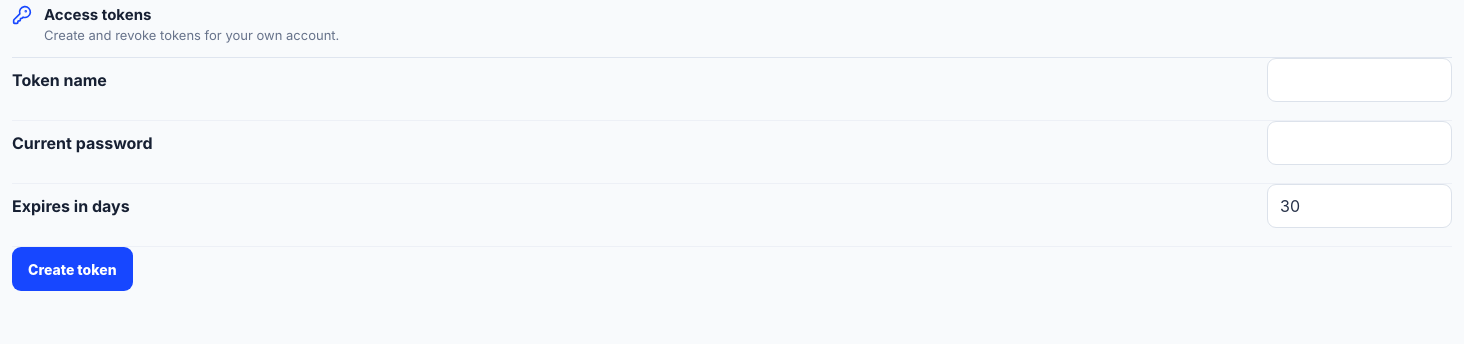
Test case: IntegrationSettings › limits a viewer to read access and clears the password after failure
In the field labelled "Token name": [1360, 80] box [1267, 58, 1452, 102], type "Read access"
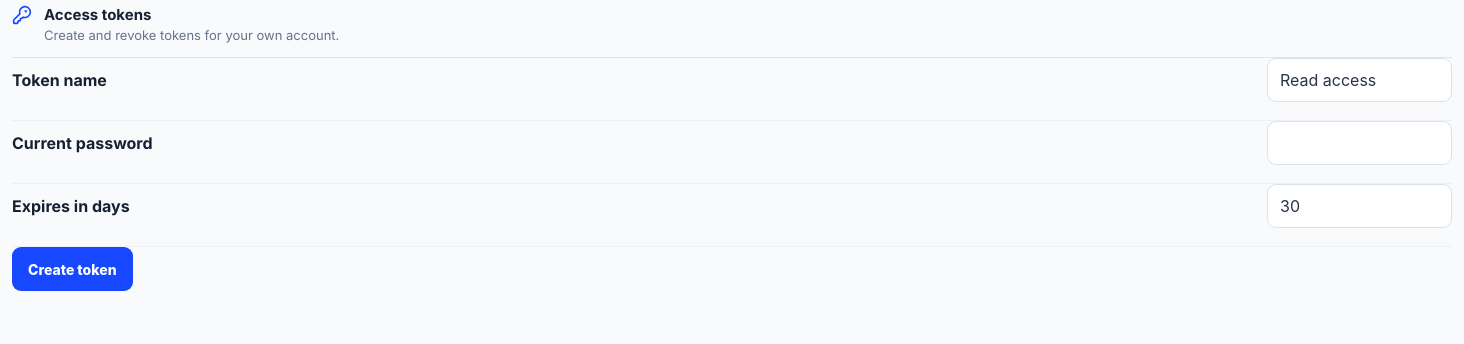
In the password field labelled "Current password": [1360, 143] box [1267, 121, 1452, 165], type "wrong-password"
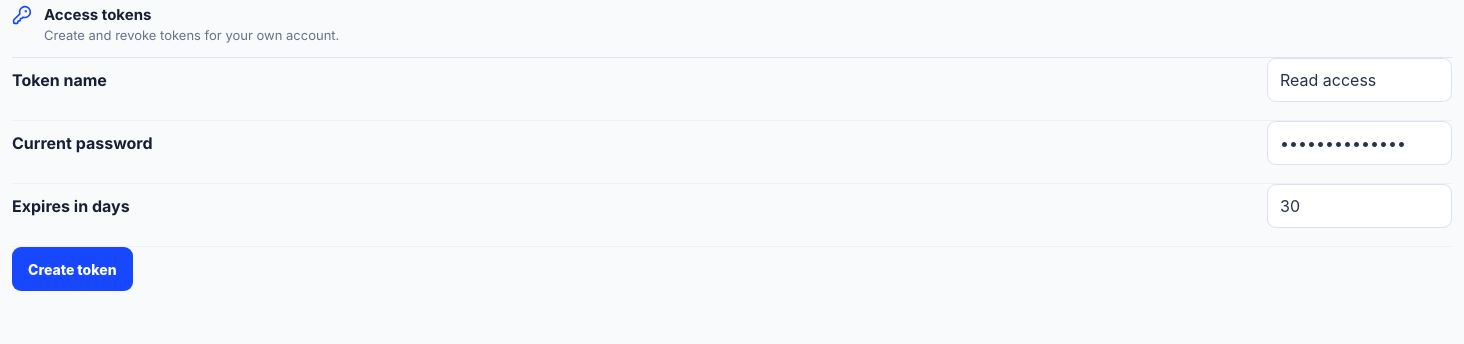
Click the button "Create token": [72, 269] box [12, 247, 132, 291]
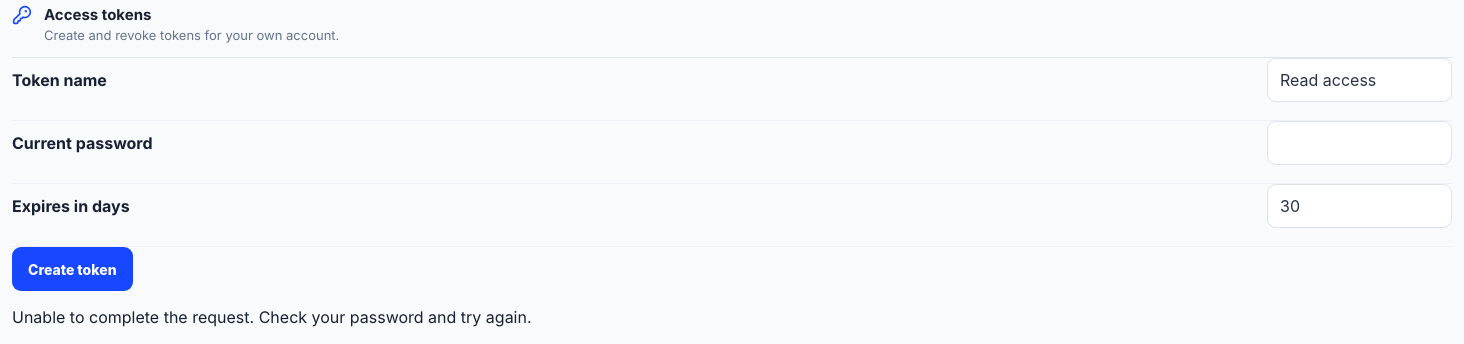
Check: the message "Unable to complete the request. Check your password and try again." is shown, box [12, 307, 532, 327]
Check: the password field labelled "Current password" is empty, box [1267, 121, 1452, 165]
